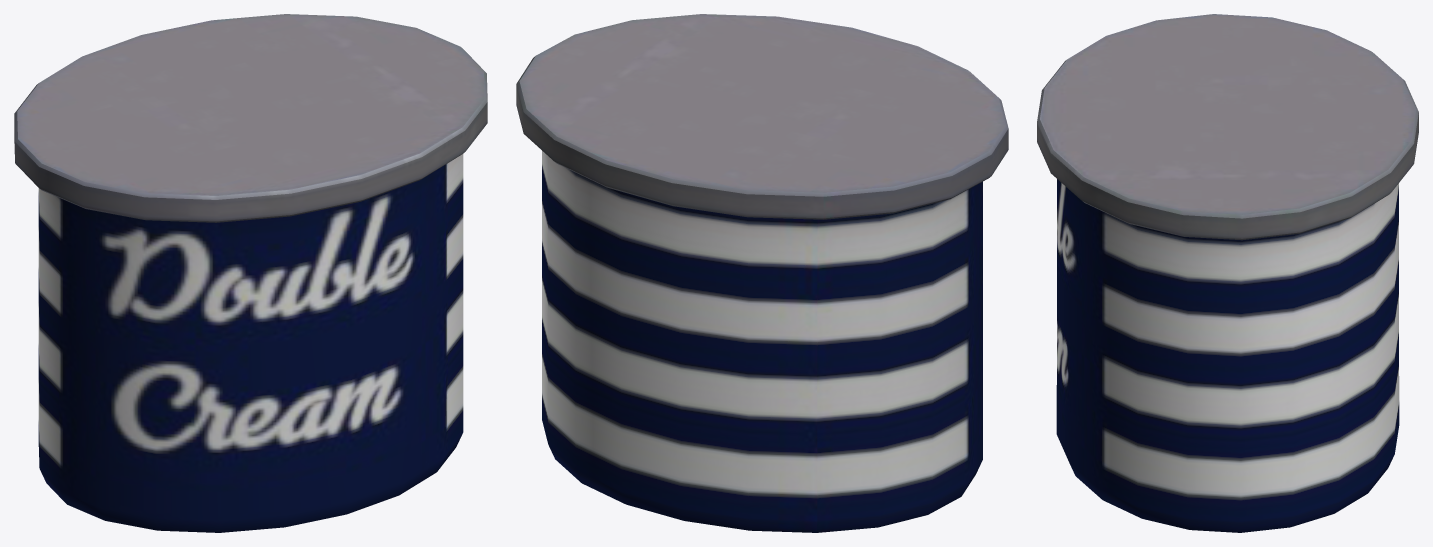
Rendered from doubleCream.glb.
The picture shows the model from 3 angles, left to right: view 1: azimuth 30°, elevation 25°; view 2: azimuth 150°, elevation 25°; view 3: azimuth 270°, elevation 25°; orthographic projection. The views are drawn at different scales.
Visible parts, largest first — view 1: Cream; view 2: Cream; view 3: Cream.
Part boxes in pixels (x1,y1,x2,y2): Cream: (14, 14, 487, 532); Cream: (516, 14, 1008, 532); Cream: (1037, 14, 1418, 532).
Size of the model in its own units: 0.1541 by 0.1189 by 0.1223.
1 material, 1 textured.
